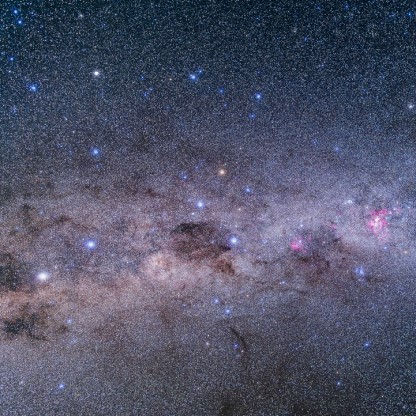Southern Cross: (222, 228, 244, 250), (192, 194, 208, 215), (238, 181, 257, 198), (215, 164, 229, 181)
